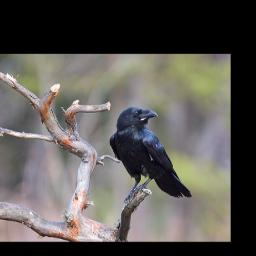Crow: (109, 106, 194, 202)
